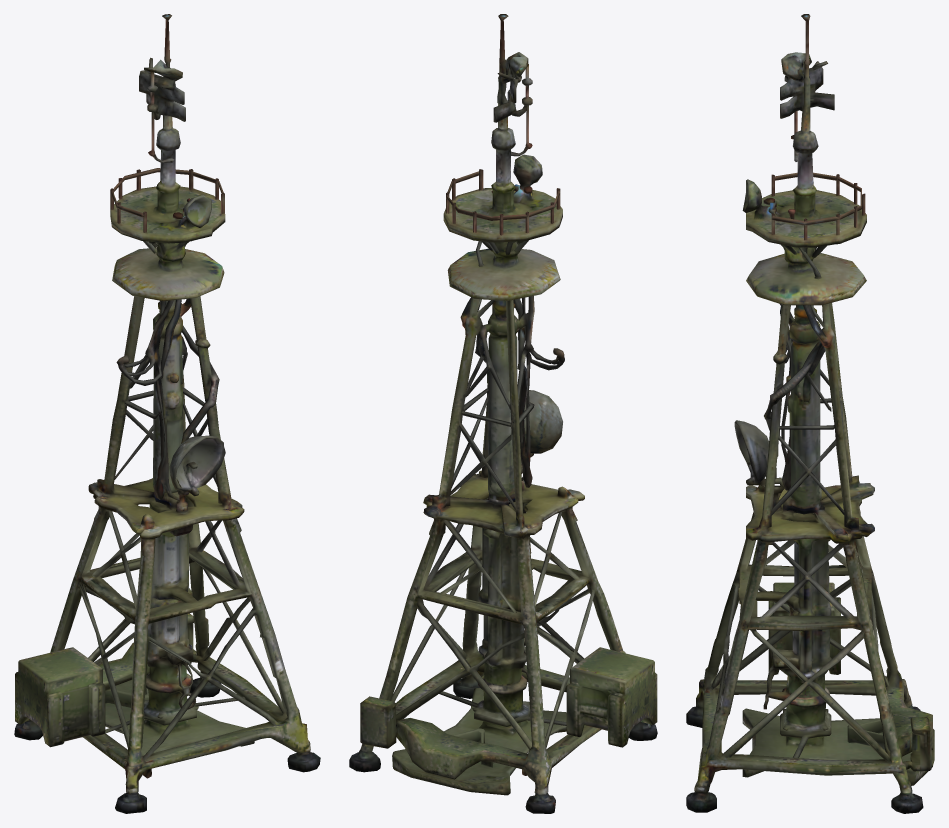
File: env_tower_radio_relay_steel_a.glb
The picture shows the model from 3 angles, left to right: view 1: azimuth 30°, elevation 25°; view 2: azimuth 150°, elevation 25°; view 3: azimuth 270°, elevation 25°; orthographic projection.
Parts seen in each view (by area): view 1: env_tower_radio_relay_steel_a; view 2: env_tower_radio_relay_steel_a; view 3: env_tower_radio_relay_steel_a.
Part boxes in pixels (bbox=[...]): env_tower_radio_relay_steel_a: bbox=[14, 14, 320, 813]; env_tower_radio_relay_steel_a: bbox=[349, 14, 657, 813]; env_tower_radio_relay_steel_a: bbox=[686, 14, 934, 813].
Bounding box in the file's own units: 1.18 × 3.5 × 1.05.
1 material, 1 textured.
